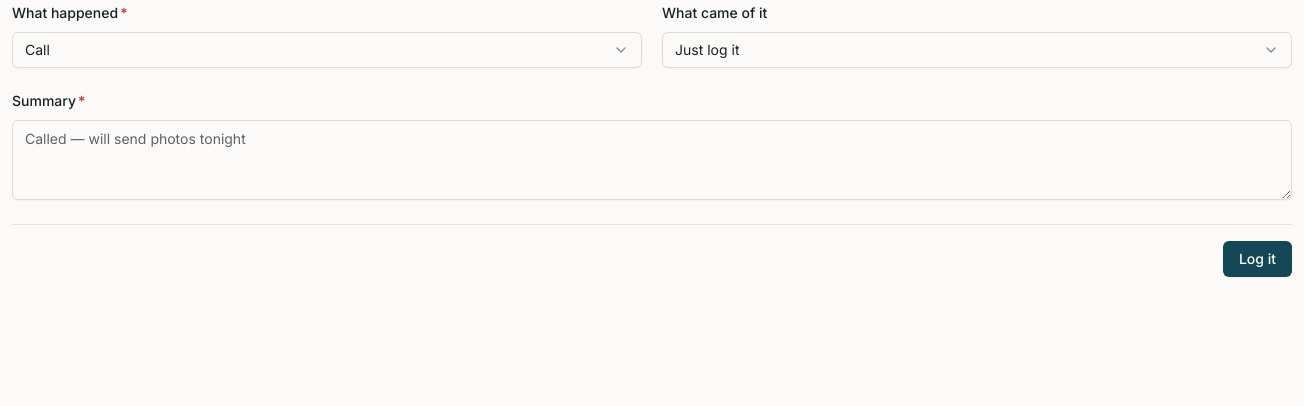
Test: the outcome composer › "Wrong number" asks for a next action or the lead closed
The image size is (1304, 406).
Click the dropdown named "What came of it". click: (707, 50)
box: 662,32 -> 1292,68
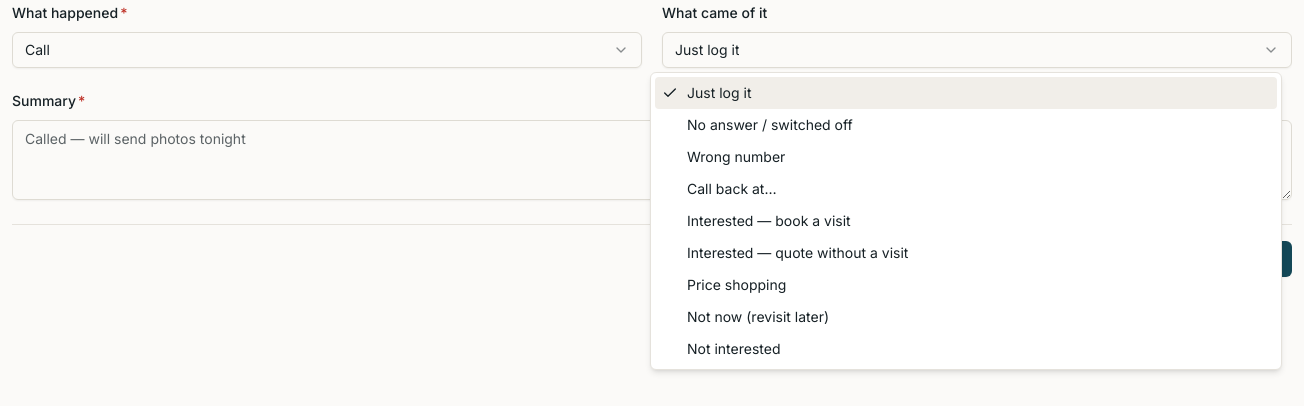
Click the option "Wrong number". click: (736, 156)
box: 687,148 -> 785,165
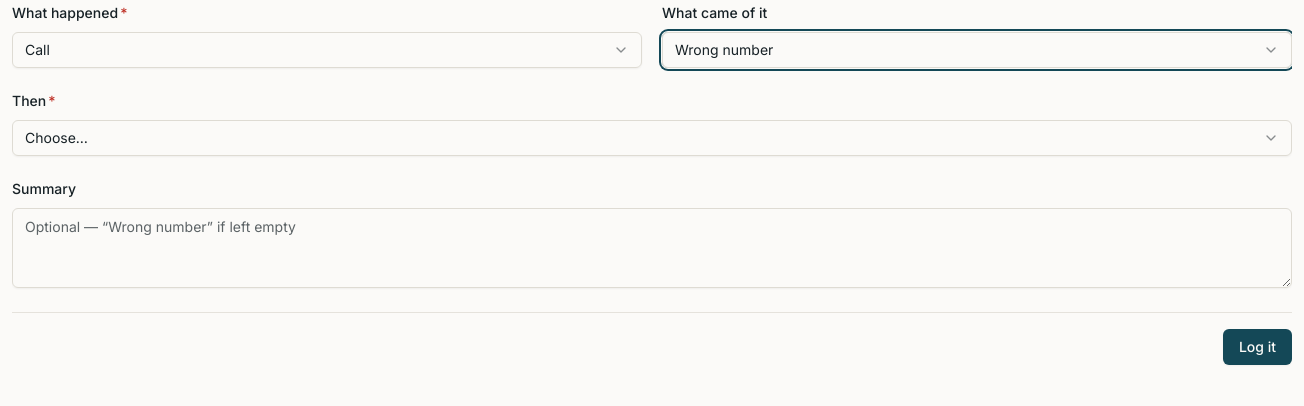
Click the button "Log it". click: (1257, 347)
box: 1223,329 -> 1292,365
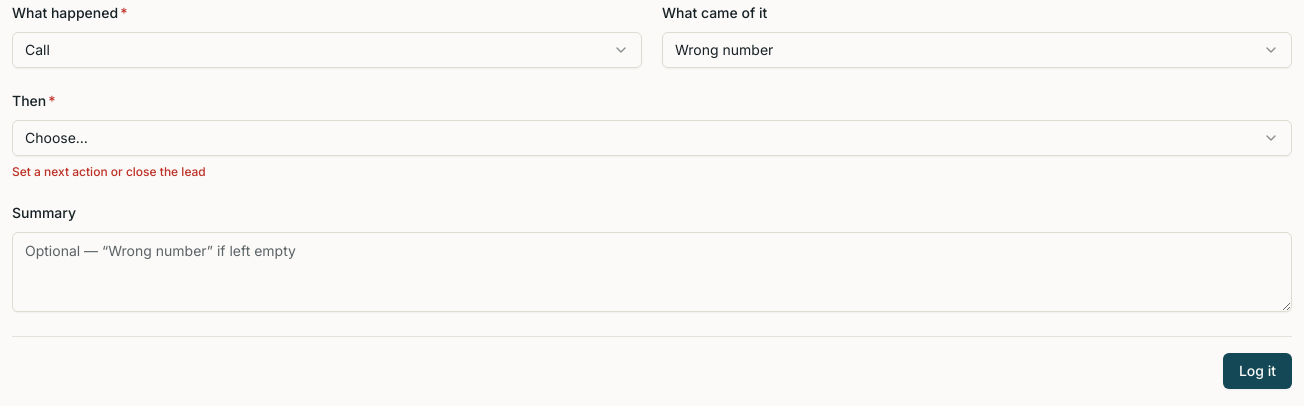
Check: the text "Set a next action or close the lead" is shown, box 12,164 -> 206,179
